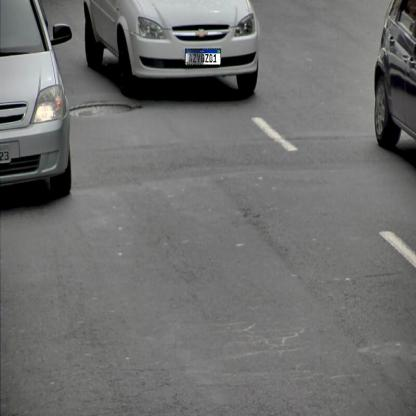PlacaM: (185, 49, 221, 65)
